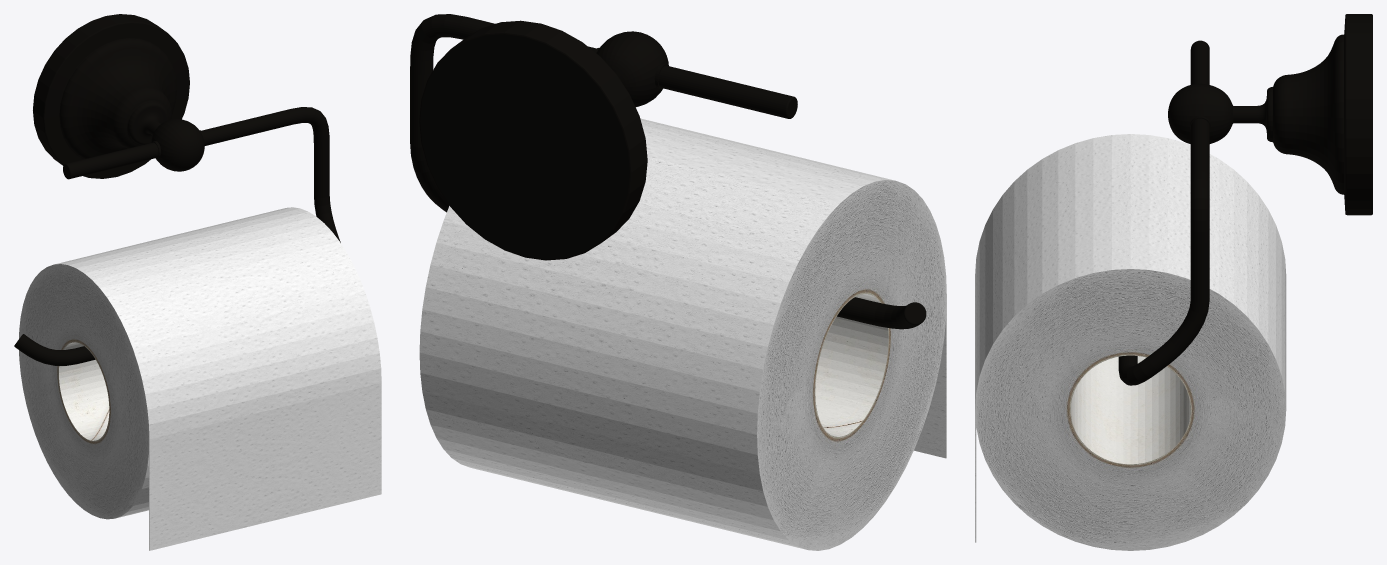
Rendered from toilet-paper-holder-7.obj.
The picture shows the model from 3 angles, left to right: view 1: azimuth 30°, elevation 25°; view 2: azimuth 150°, elevation 25°; view 3: azimuth 270°, elevation 25°; orthographic projection. The views are drawn at different scales.
Parts seen in each view (by area): view 1: Bathroom_accessories_072; view 2: Bathroom_accessories_072; view 3: Bathroom_accessories_072.
Boxes of the visible parts, bbox=[...] form: Bathroom_accessories_072: bbox=[14, 14, 381, 550]; Bathroom_accessories_072: bbox=[410, 14, 946, 550]; Bathroom_accessories_072: bbox=[975, 14, 1372, 550].
Size of the model in its own units: 14.53 by 16.22 by 12.6.
Materials: 4 (3 with a texture image).
